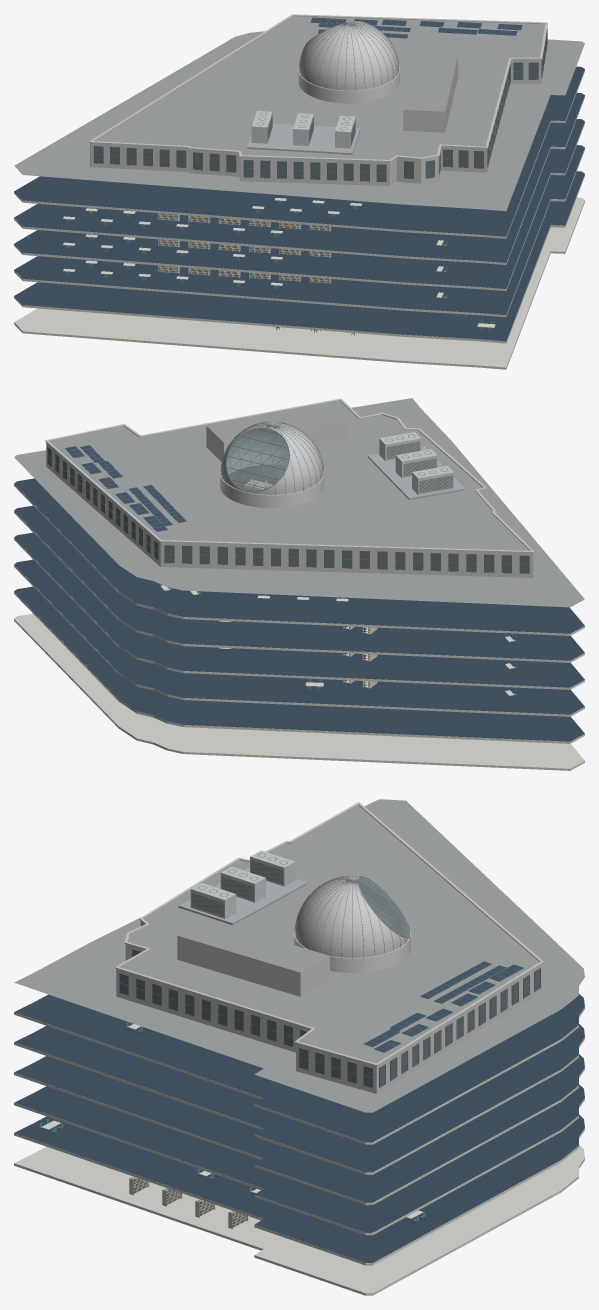
Rendered from lrb-interior-b124b81db855.glb.
The picture shows the model from 3 angles, top to bottom: view 1: azimuth 30°, elevation 25°; view 2: azimuth 150°, elevation 25°; view 3: azimuth 270°, elevation 25°; orthographic projection. The views are drawn at different scales.
Parts seen in each view (by area): view 1: LRB.001; view 2: LRB.001; view 3: LRB.001.
Part boxes in pixels (<box>): LRB.001: <box>14,14,584,369</box>; LRB.001: <box>14,398,584,770</box>; LRB.001: <box>14,799,584,1295</box>.
Bounding box in the file's own units: 89.08 × 36.89 × 68.53.
